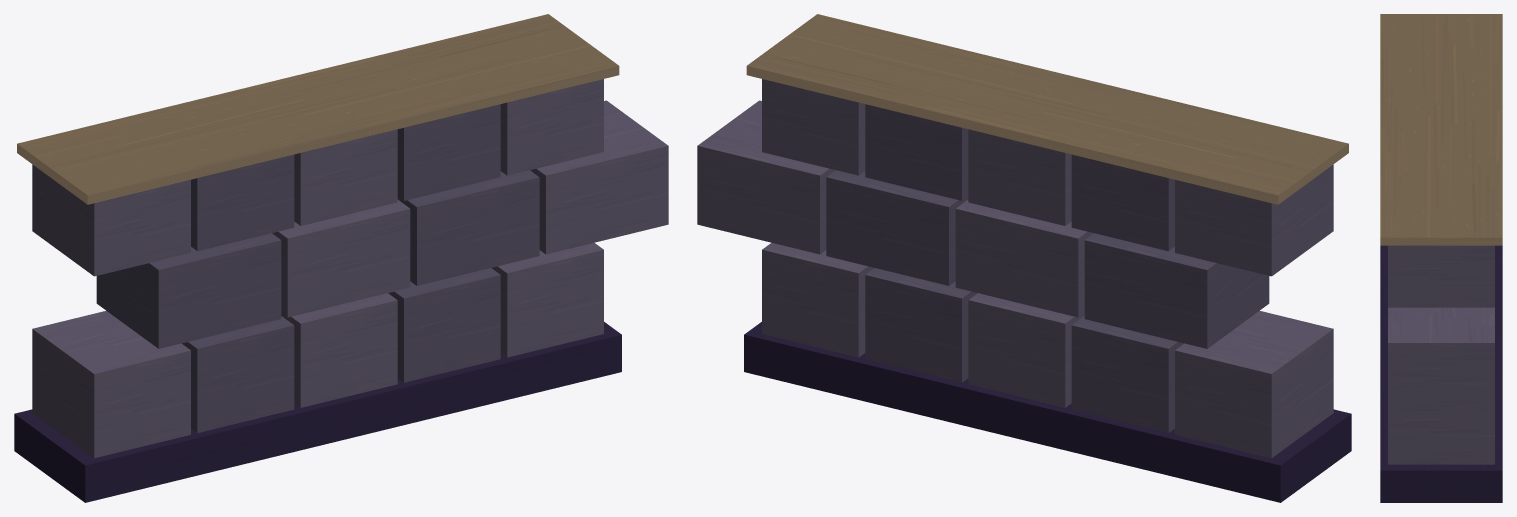
File: module-mur.glb
3 views of the same model, side by side, from view 1: azimuth 30°, elevation 25°; view 2: azimuth 150°, elevation 25°; view 3: azimuth 270°, elevation 25° (orthographic). The views are drawn at different scales.
Visible parts, largest first — view 1: Liseré, Base, Pierre0-0, Pierre1-0, Pierre1-3, Pierre1-2, Pierre1-1, Pierre2-0, Pierre0-3, Pierre0-4, Pierre0-2, Pierre0-1 (+4 smaller); view 2: Liseré, Base, Pierre0-0, Pierre1-0, Pierre1-3, Pierre1-2, Pierre1-1, Pierre2-0, Pierre0-3, Pierre0-4, Pierre0-2, Pierre0-1 (+4 smaller); view 3: Liseré, Pierre1-3, Base, Pierre2-4, Pierre0-4.
Part boxes in pixels (x1=…): Liseré: x1=17, y1=14, x2=619, y2=204; Base: x1=14, y1=322, x2=621, y2=502; Pierre0-0: x1=32, y1=310, x2=190, y2=458; Pierre1-0: x1=96, y1=233, x2=281, y2=348; Pierre1-3: x1=530, y1=100, x2=668, y2=254; Pierre1-2: x1=397, y1=170, x2=539, y2=285; Pierre1-1: x1=272, y1=199, x2=410, y2=317; Pierre2-0: x1=32, y1=164, x2=190, y2=276; Pierre0-3: x1=388, y1=268, x2=500, y2=382; Pierre0-4: x1=492, y1=242, x2=603, y2=357; Pierre0-2: x1=281, y1=293, x2=397, y2=407; Pierre0-1: x1=182, y1=316, x2=294, y2=432; Liseré: x1=746, y1=14, x2=1348, y2=204; Base: x1=744, y1=322, x2=1351, y2=502; Pierre0-0: x1=1175, y1=310, x2=1333, y2=458; Pierre1-0: x1=1084, y1=233, x2=1269, y2=348; Pierre1-3: x1=697, y1=100, x2=835, y2=254; Pierre1-2: x1=826, y1=170, x2=968, y2=285; Pierre1-1: x1=955, y1=199, x2=1093, y2=317; Pierre2-0: x1=1175, y1=164, x2=1333, y2=276; Pierre0-3: x1=865, y1=268, x2=977, y2=382; Pierre0-4: x1=762, y1=242, x2=873, y2=357; Pierre0-2: x1=968, y1=293, x2=1084, y2=407; Pierre0-1: x1=1071, y1=316, x2=1183, y2=432; Liseré: x1=1380, y1=14, x2=1502, y2=245; Pierre1-3: x1=1388, y1=307, x2=1494, y2=410; Base: x1=1380, y1=245, x2=1502, y2=502; Pierre2-4: x1=1388, y1=245, x2=1494, y2=307; Pierre0-4: x1=1388, y1=411, x2=1494, y2=464.
Bounding box in the file's own units: 2.3 × 1.15 × 0.48.
Materials: 4 (4 with a texture image).
